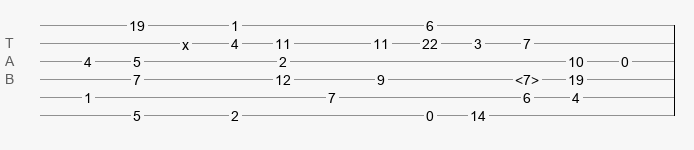0: (426, 108, 434, 118), (621, 54, 629, 64)
1: (84, 90, 92, 100), (231, 18, 239, 28)
10: (568, 54, 584, 64)
11: (275, 36, 291, 46), (373, 36, 389, 46)
12: (275, 72, 291, 82)
14: (470, 108, 486, 118)
19: (129, 18, 145, 28), (568, 72, 584, 82)
2: (231, 108, 239, 118), (279, 54, 287, 64)
22: (422, 36, 438, 46)
3: (474, 36, 482, 46)
4: (84, 54, 92, 64), (231, 36, 239, 46), (572, 90, 580, 100)
5: (133, 108, 141, 118), (133, 54, 141, 64)
6: (426, 18, 434, 28), (523, 90, 531, 100)
7: (133, 72, 141, 82), (328, 90, 336, 100), (523, 36, 531, 46)
9: (377, 72, 385, 82)
harmonic: (515, 72, 539, 82)
x: (182, 37, 189, 45)
